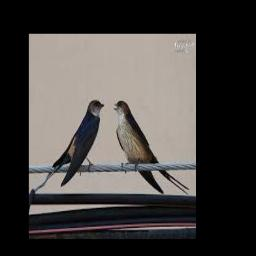Swallow: (114, 101, 190, 193), (35, 100, 104, 192)
